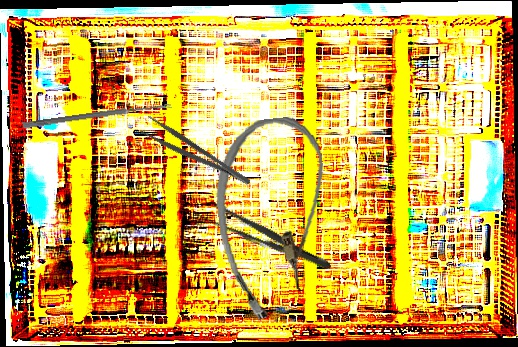Cannula: (208, 113, 339, 323)
Dressing Forceps: (190, 195, 336, 278), (138, 113, 253, 197)
Surgical Spoon: (22, 101, 172, 130)
